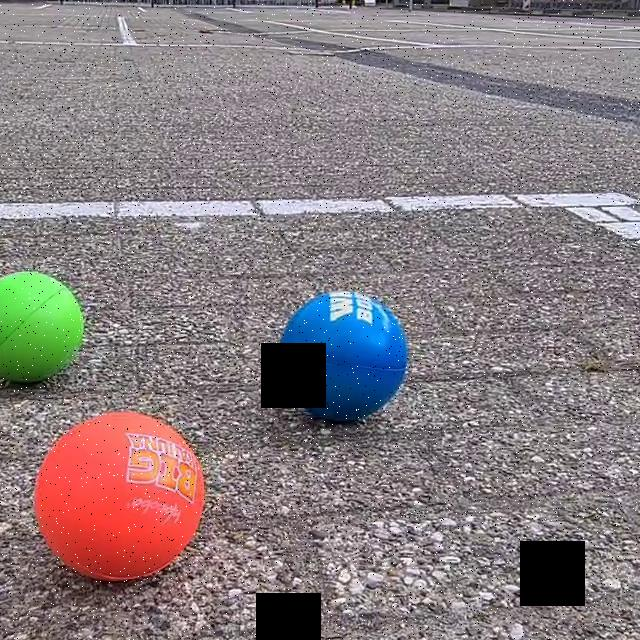ball: (0, 269, 88, 387)
